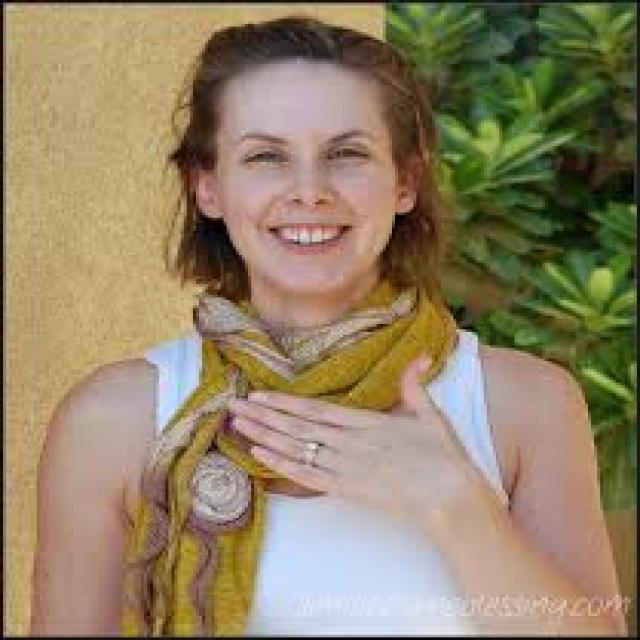Please: (213, 348, 469, 516)
